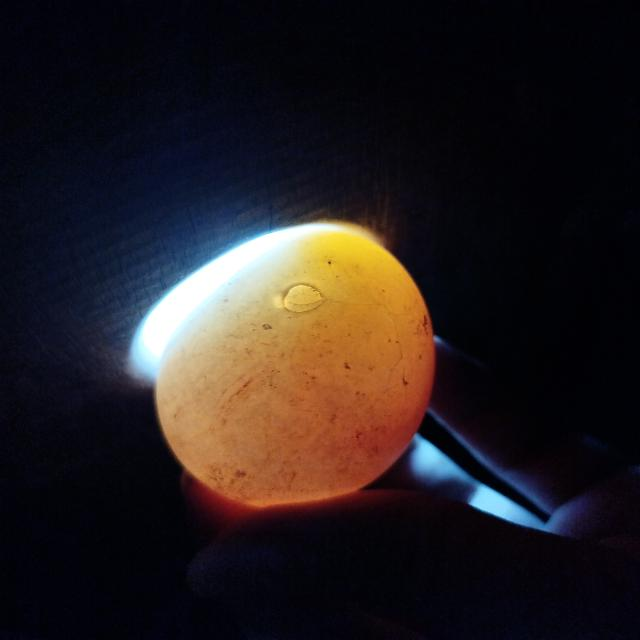Rachadura: (284, 285, 429, 399)
